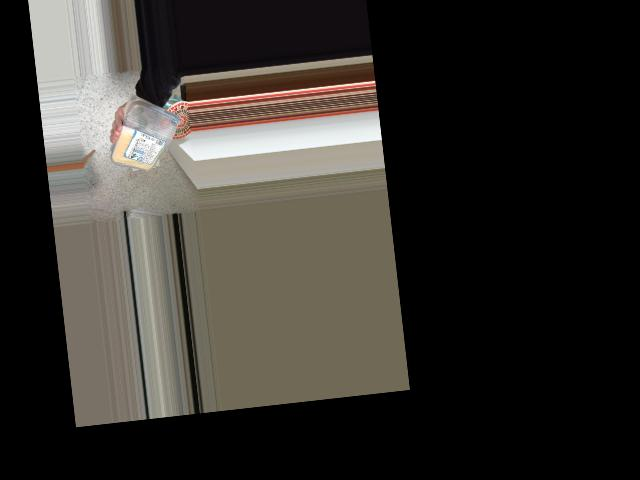cheese: (114, 100, 183, 175)
